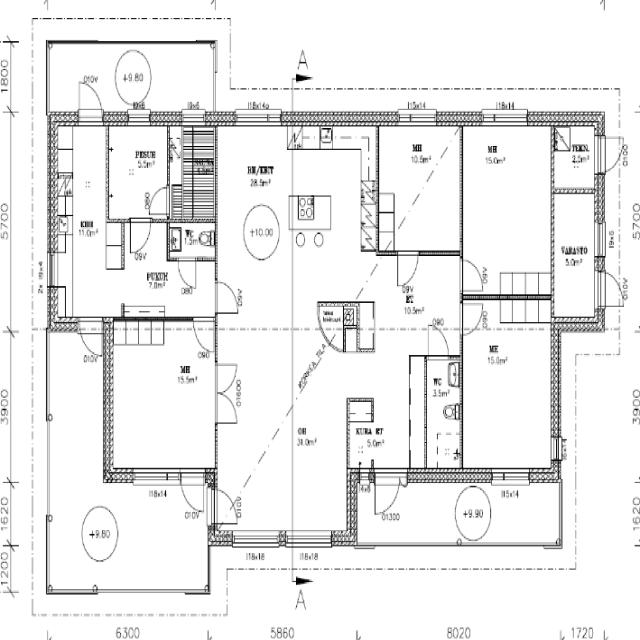door: (213, 357, 242, 428), (373, 470, 402, 517), (76, 78, 104, 126), (178, 469, 207, 515), (212, 277, 242, 316), (597, 269, 625, 310), (596, 134, 624, 174), (78, 315, 104, 358), (458, 256, 486, 294), (127, 216, 153, 256), (212, 485, 237, 526), (192, 315, 218, 354), (396, 248, 420, 290), (459, 298, 485, 336), (426, 324, 450, 361), (147, 184, 171, 219), (176, 255, 198, 293)
window: (129, 466, 180, 490), (230, 526, 283, 548), (232, 108, 283, 128), (288, 528, 334, 549), (491, 466, 532, 488), (483, 109, 530, 128), (396, 109, 438, 127), (593, 215, 608, 265), (46, 248, 61, 292), (548, 435, 564, 465), (126, 109, 152, 127)
zone: (459, 298, 556, 474), (108, 319, 217, 474), (460, 122, 554, 298), (54, 124, 116, 323), (376, 122, 462, 254), (290, 136, 374, 254), (552, 188, 600, 322), (107, 123, 170, 220), (423, 355, 461, 471), (552, 124, 599, 191), (171, 121, 215, 185), (168, 222, 216, 260), (0, 543, 12, 592)
